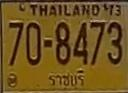0: (25, 22, 43, 66)
3: (106, 21, 122, 64)
4: (73, 21, 87, 64)
7: (8, 22, 24, 66), (90, 21, 104, 64)
8: (55, 21, 69, 64)
RBR: (47, 69, 86, 88)
